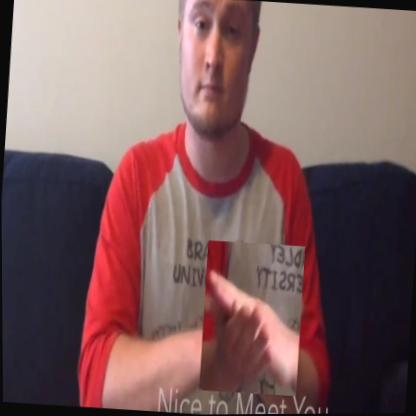NiceToMeetYou: (198, 240, 306, 397)
